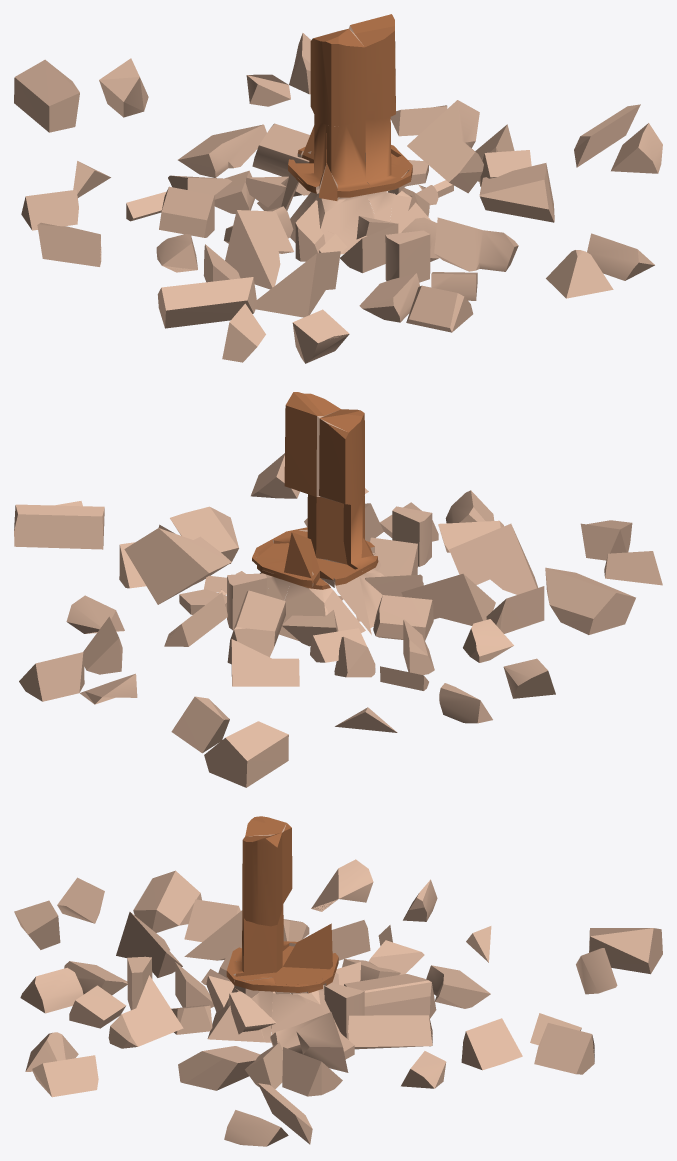
File: SM_Castle_Pillar_Broken_1.fbx
The picture shows the model from 3 angles, top to bottom: view 1: azimuth 30°, elevation 25°; view 2: azimuth 150°, elevation 25°; view 3: azimuth 270°, elevation 25°; orthographic projection. The views are drawn at different scales.
Parts seen in each view (by area): view 1: pCube1_cell; view 2: pCube1_cell; view 3: pCube1_cell.
Part boxes in pixels (x1=…): pCube1_cell: x1=14, y1=14, x2=662, y2=363; pCube1_cell: x1=14, y1=392, x2=662, y2=787; pCube1_cell: x1=14, y1=816, x2=662, y2=1146.
Size of the model in its own units: 488 by 173 by 507.
